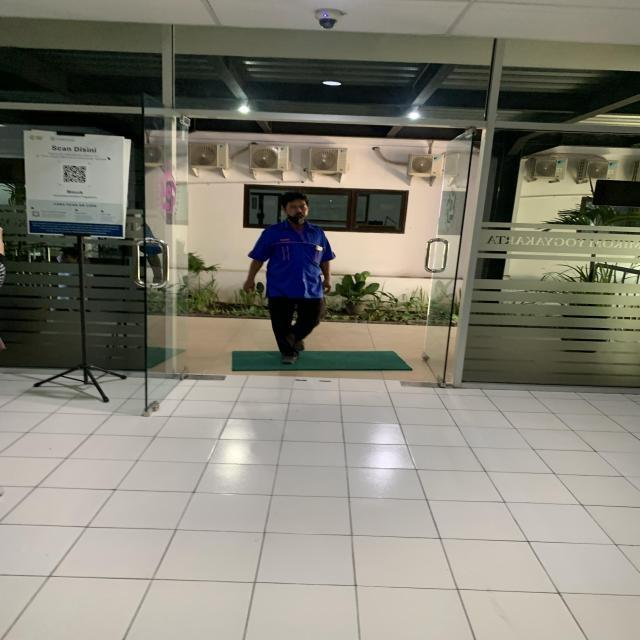hairnet: (277, 191, 313, 223)
